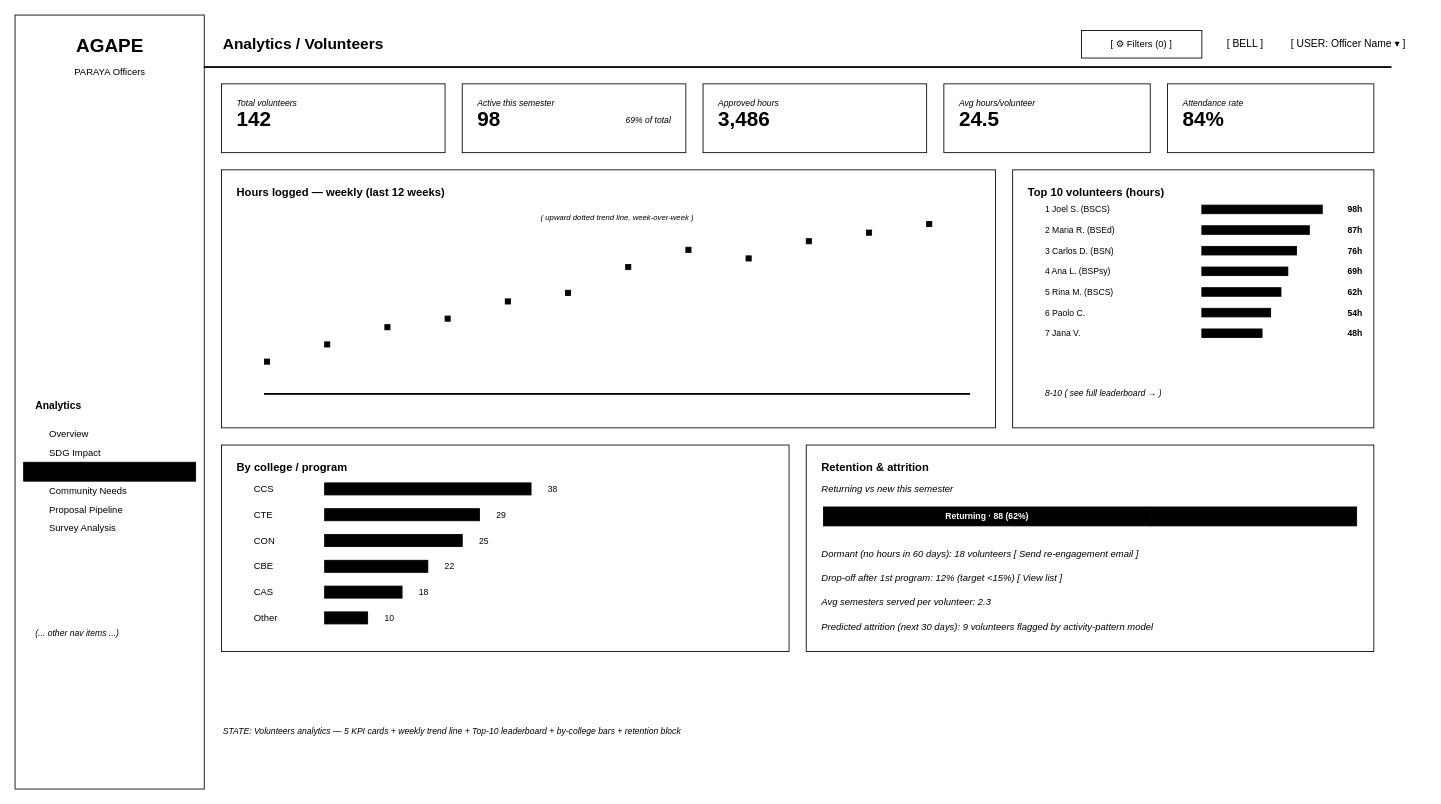
This 1441x804 diagram has some shape labels left out. The box of each missing label's shape, as (x1, y1, x2, y2) in pixels:
[x] Volunteers: (23, 461, 196, 481)
New · 54 (38%): (1149, 506, 1357, 526)
